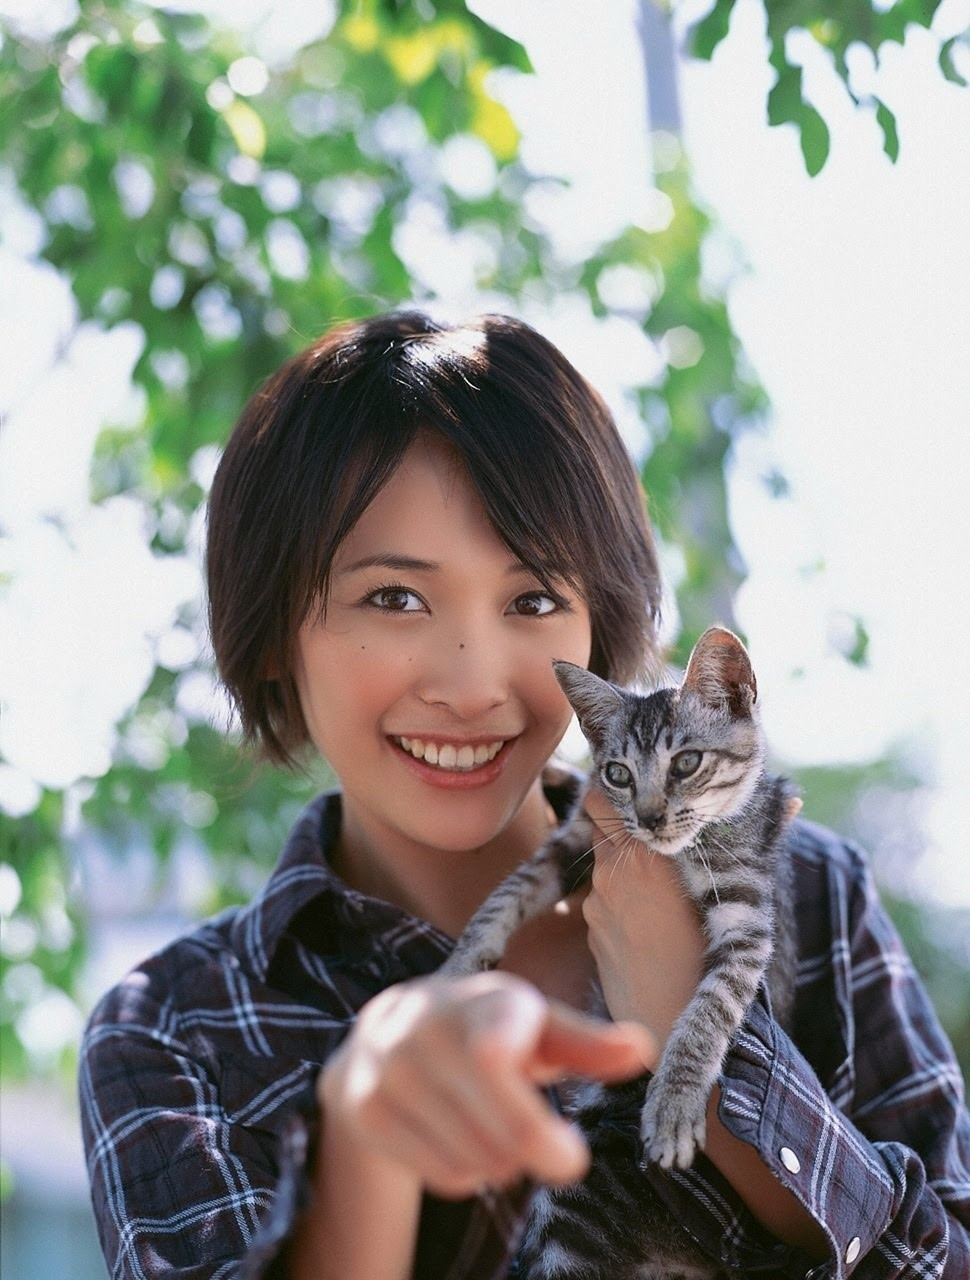face_no_mask: (215, 311, 654, 847)
